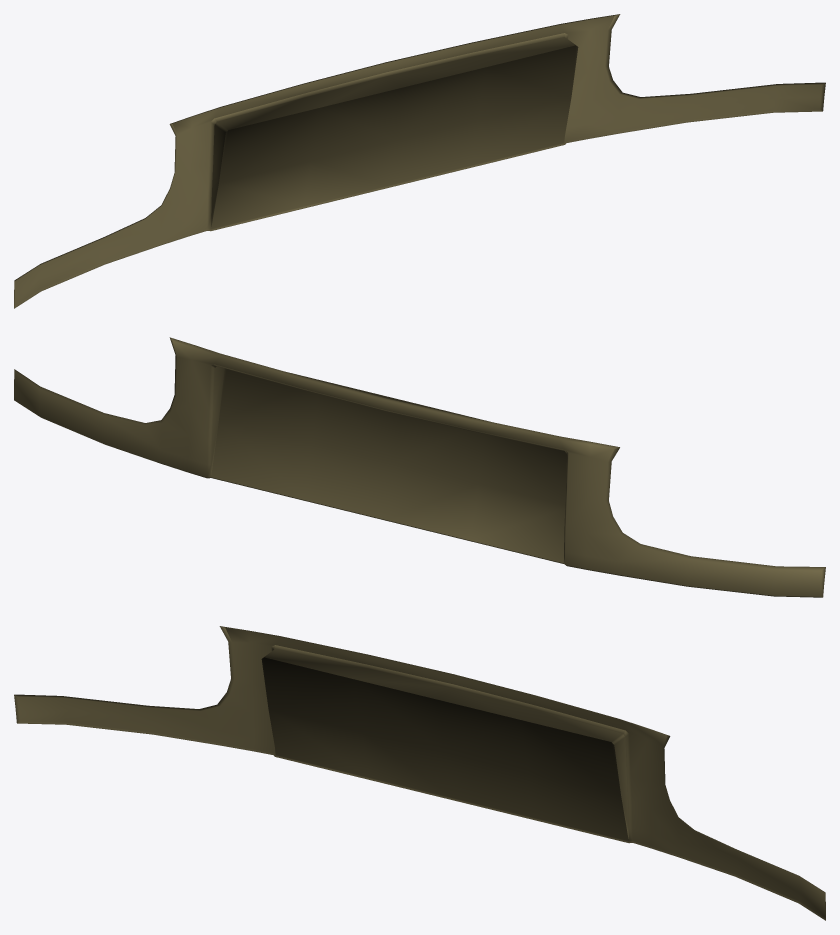
File: MX5_BrakeLight01_Duco.fbx
The picture shows the model from 3 angles, top to bottom: view 1: azimuth 30°, elevation 25°; view 2: azimuth 150°, elevation 25°; view 3: azimuth 330°, elevation 25°; orthographic projection.
Visible parts, largest first — view 1: MX5_BrakeLight01_Duco; view 2: MX5_BrakeLight01_Duco; view 3: MX5_BrakeLight01_Duco.
Boxes of the visible parts, box(x1,y1,x2,y2) form: MX5_BrakeLight01_Duco: box(14, 14, 825, 308); MX5_BrakeLight01_Duco: box(14, 337, 825, 597); MX5_BrakeLight01_Duco: box(14, 626, 825, 920).
Bounding box in the file's own units: 120 × 17.52 × 8.91.
